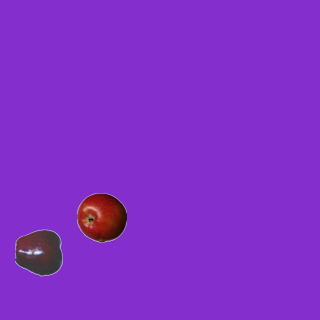Apple Braeburn: (76, 192, 126, 242)
Apple Red Delicious: (14, 227, 64, 277)
